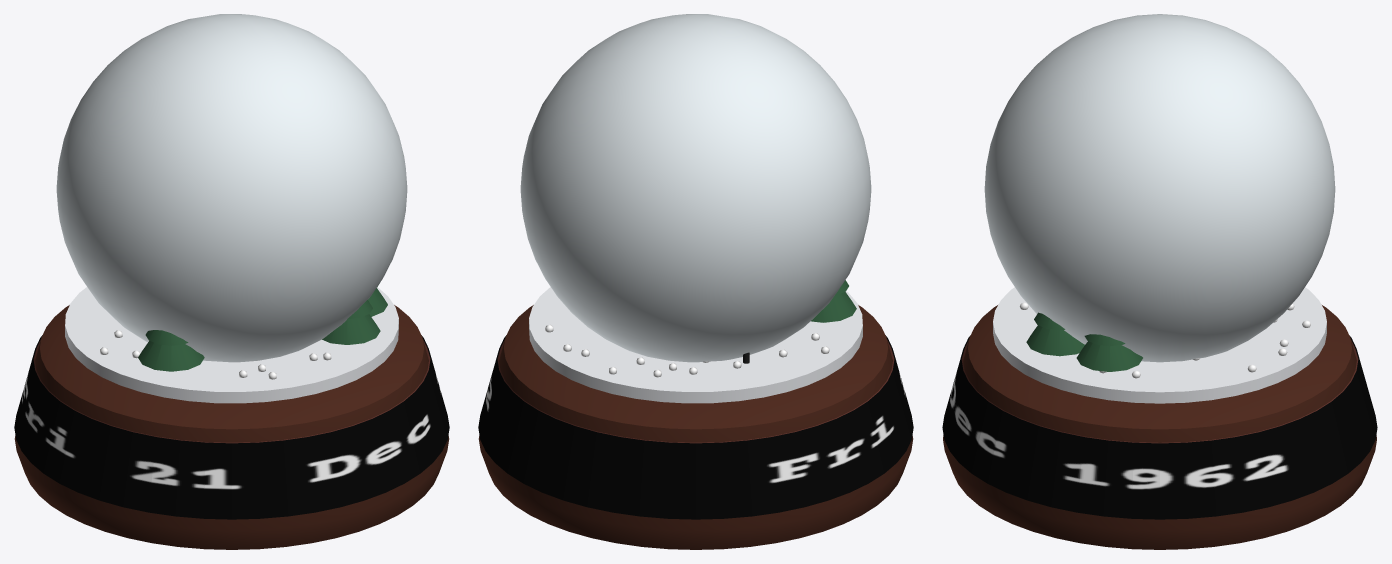
File: snow_globe.fbx
The picture shows the model from 3 angles, left to right: view 1: azimuth 30°, elevation 25°; view 2: azimuth 150°, elevation 25°; view 3: azimuth 270°, elevation 25°; orthographic projection.
Parts seen in each view (by area): view 1: snow_globe, UV_base; view 2: snow_globe, UV_base; view 3: snow_globe, UV_base.
Part boxes in pixels (left/top/right/bottom): snow_globe: left=14, top=14, right=449, bottom=549; UV_base: left=14, top=335, right=449, bottom=519; snow_globe: left=478, top=14, right=913, bottom=549; UV_base: left=478, top=335, right=913, bottom=519; snow_globe: left=943, top=14, right=1376, bottom=549; UV_base: left=942, top=335, right=1377, bottom=519.
Size of the model in its own units: 0.1042 by 0.114 by 0.1042.
